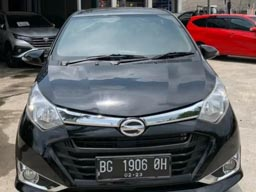plat: (97, 156, 172, 171)
